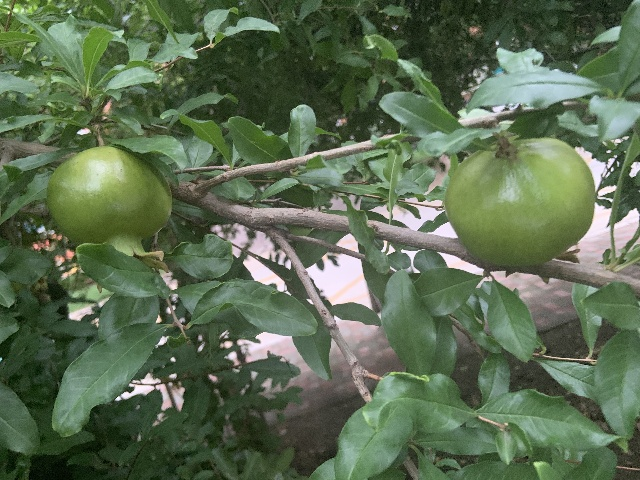mid-growth: (445, 136, 595, 284), (47, 145, 172, 272)
